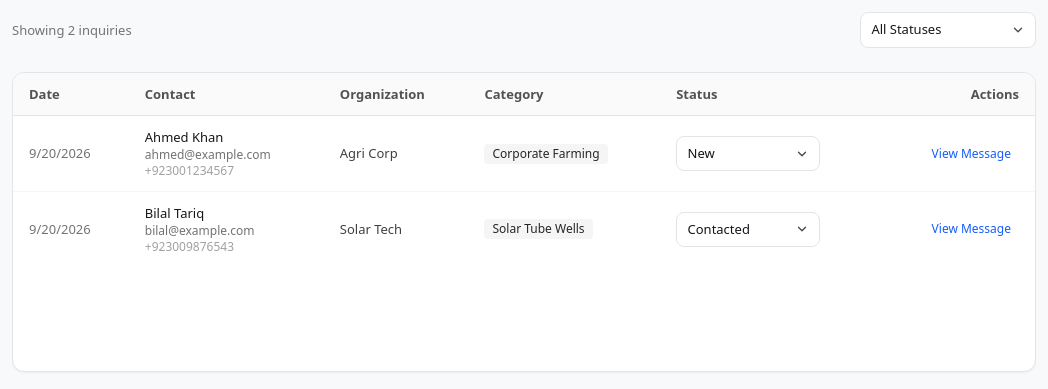
Test case: InquiriesList Component › filters inquiries by status dropdown
The width and height of the screenshot is (1048, 389).
Click the dropdown named "Filter by status" at (948, 30), box [860,12,1036,48]
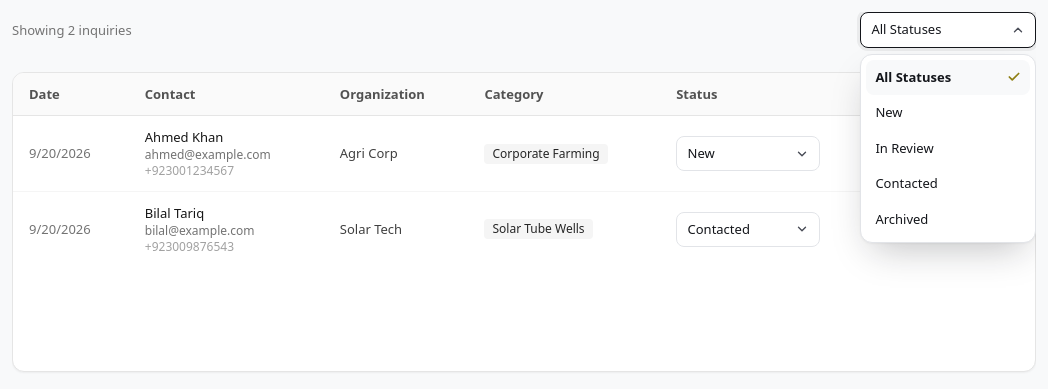
Click the option "Contacted" at (948, 184), box [866,166,1030,202]
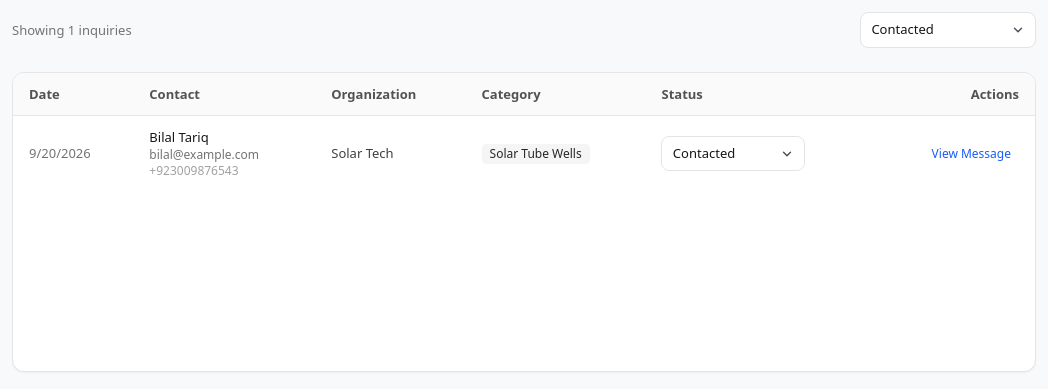
Expected: the text "Bilal Tariq" is shown, [149,128,209,146]
Expected: the text "Ahmed Khan" is gone
